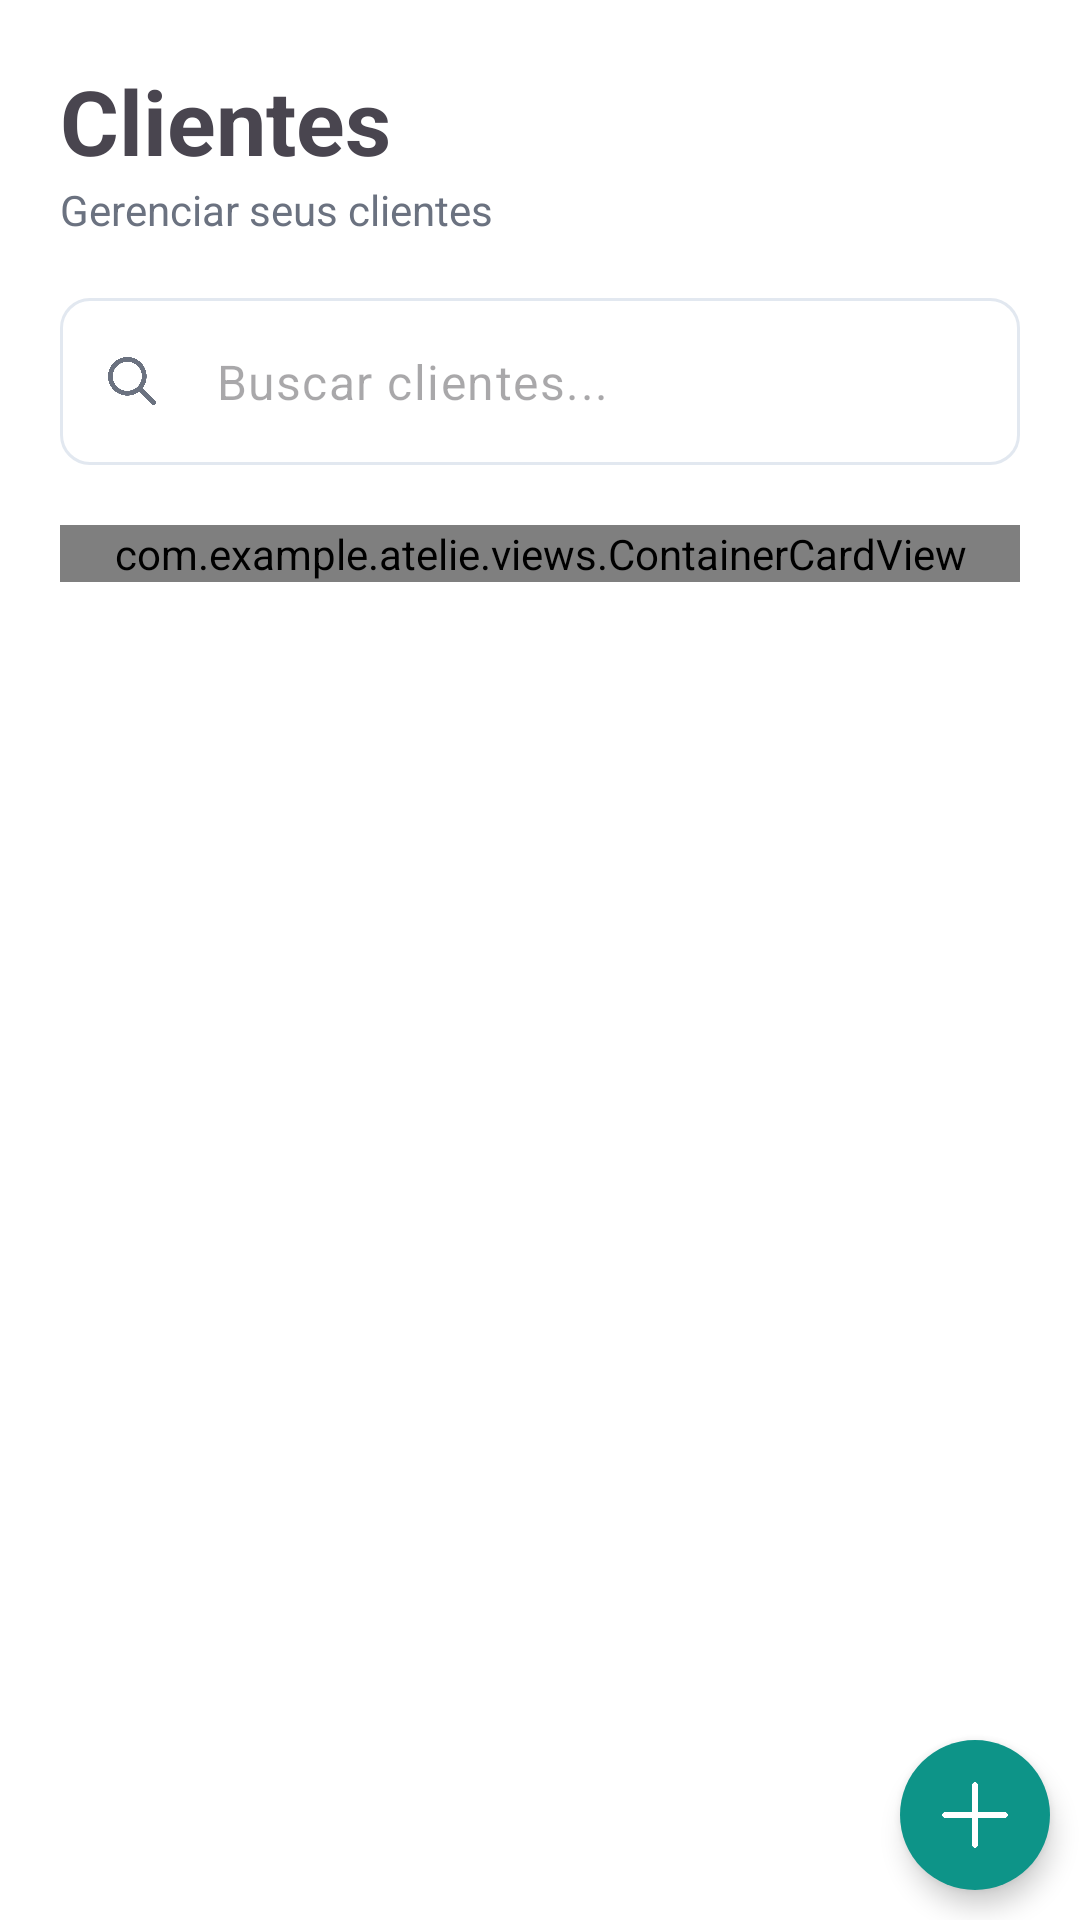

Screen size 1080x1920. Icon name, then its box in pixels as box=[x1, y1, x2, y2]:
plus: box=[900, 1740, 1050, 1890]
